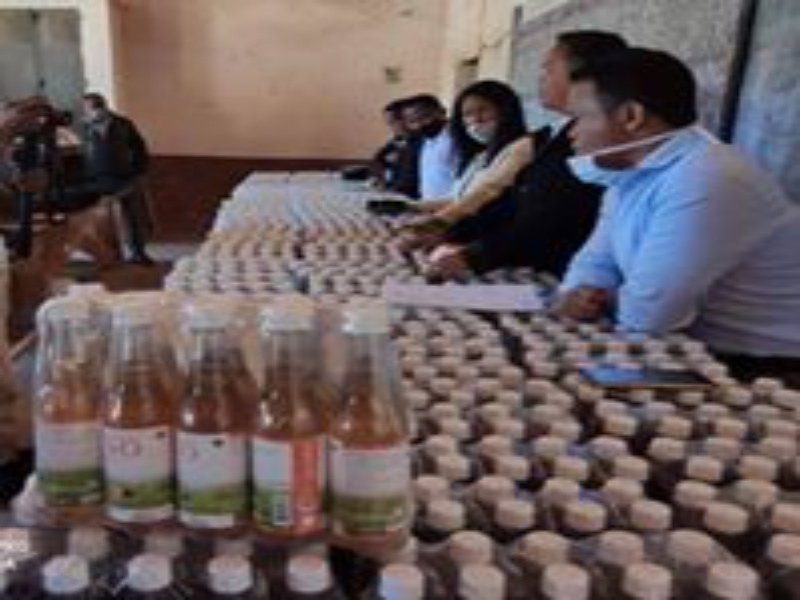ManaoArotava: (450, 80, 508, 151)
